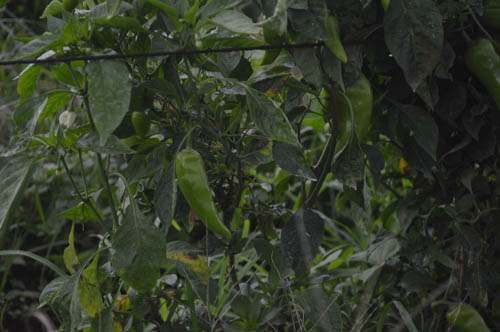ChiliPepper: (171, 147, 240, 247), (338, 65, 374, 161), (460, 28, 500, 99), (314, 7, 355, 62), (438, 299, 491, 332), (130, 112, 156, 138)
